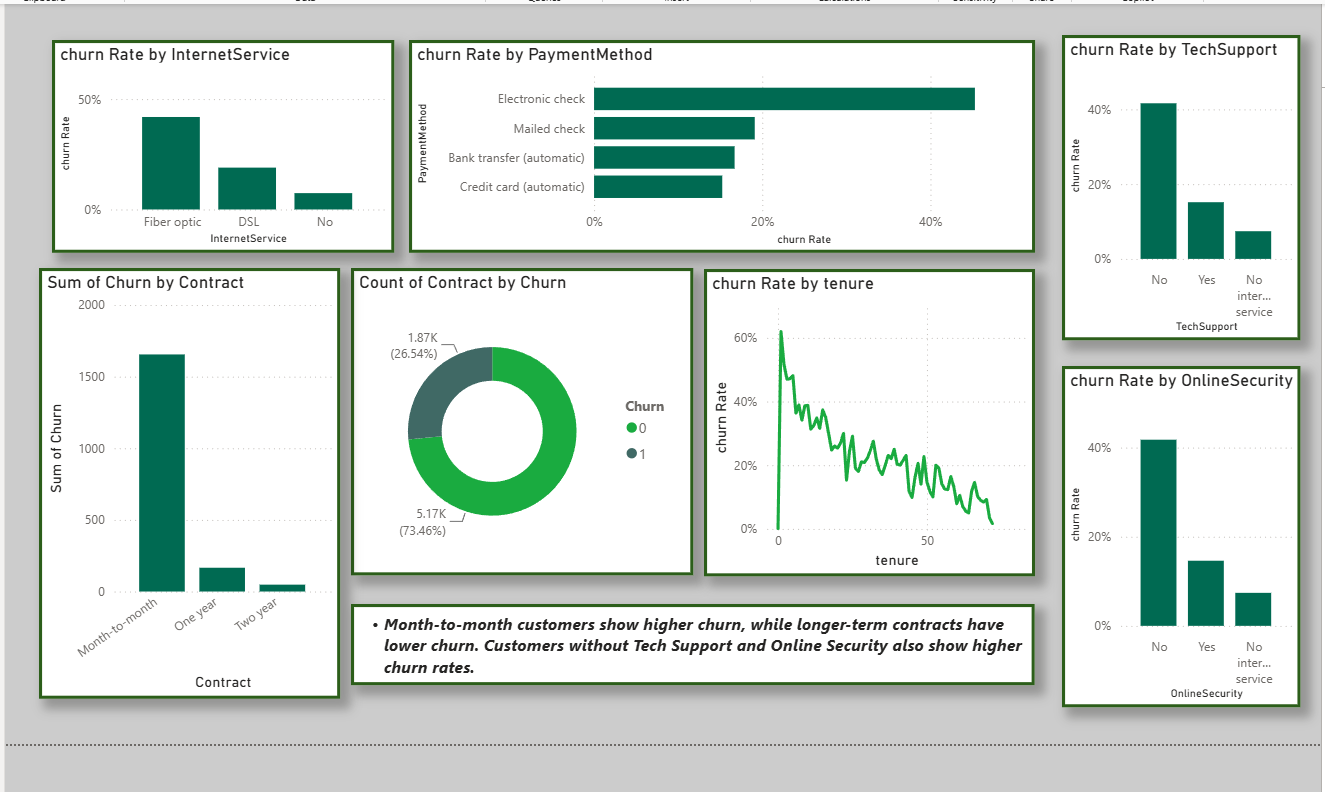

This screenshot's page, from the dashboard's own definition file:
{"tool":"powerbi","page":{"name":"Page 2","canvas":[1280,720],"ordinal":1},"visuals":[{"type":"donutChart","fields":{"Y":["CountNonNull(WA_Fn-UseC_-Telco-Customer-Churn.Contract)"],"Category":["WA_Fn-UseC_-Telco-Customer-Churn.Churn"]},"box":[337,257,332.7,298.8],"z":0},{"type":"columnChart","fields":{"Y":["WA_Fn-UseC_-Telco-Customer-Churn.churn Rate"],"Category":["WA_Fn-UseC_-Telco-Customer-Churn.InternetService"]},"box":[46,35,332.7,206.8],"z":1},{"type":"clusteredBarChart","fields":{"Y":["WA_Fn-UseC_-Telco-Customer-Churn.churn Rate"],"Category":["WA_Fn-UseC_-Telco-Customer-Churn.PaymentMethod"]},"box":[393,35,609,207],"z":2},{"type":"clusteredColumnChart","fields":{"Y":["WA_Fn-UseC_-Telco-Customer-Churn.churn Rate"],"Category":["WA_Fn-UseC_-Telco-Customer-Churn.TechSupport"]},"box":[1028.2,30,231.8,296.8],"z":3},{"type":"clusteredColumnChart","fields":{"Y":["WA_Fn-UseC_-Telco-Customer-Churn.churn Rate"],"Category":["WA_Fn-UseC_-Telco-Customer-Churn.OnlineSecurity"]},"box":[1028.2,351.7,231.8,331.7],"z":4},{"type":"lineChart","fields":{"Y":["WA_Fn-UseC_-Telco-Customer-Churn.churn Rate"],"Category":["WA_Fn-UseC_-Telco-Customer-Churn.tenure"]},"box":[680,258,321.7,298.8],"z":5},{"type":"clusteredColumnChart","fields":{"Category":["WA_Fn-UseC_-Telco-Customer-Churn.Contract"],"Y":["Sum(WA_Fn-UseC_-Telco-Customer-Churn.Churn)"]},"box":[33,257,292.8,418.7],"z":6},{"type":"textbox","box":[337,584,665,79],"z":7}]}

Visuals, with their boxes in screenshot pixels (x1, y1, x2, y2):
donutChart - CountNonNull(WA_Fn-UseC_-Telco-Customer-Churn.Contract) x WA_Fn-UseC_-Telco-Customer-Churn.Churn: (351,266,691,571)
columnChart - WA_Fn-UseC_-Telco-Customer-Churn.churn Rate x WA_Fn-UseC_-Telco-Customer-Churn.InternetService: (54,39,393,250)
clusteredBarChart - WA_Fn-UseC_-Telco-Customer-Churn.churn Rate x WA_Fn-UseC_-Telco-Customer-Churn.PaymentMethod: (408,39,1030,250)
clusteredColumnChart - WA_Fn-UseC_-Telco-Customer-Churn.churn Rate x WA_Fn-UseC_-Telco-Customer-Churn.TechSupport: (1057,34,1293,337)
clusteredColumnChart - WA_Fn-UseC_-Telco-Customer-Churn.churn Rate x WA_Fn-UseC_-Telco-Customer-Churn.OnlineSecurity: (1057,362,1293,701)
lineChart - WA_Fn-UseC_-Telco-Customer-Churn.churn Rate x WA_Fn-UseC_-Telco-Customer-Churn.tenure: (701,267,1029,572)
clusteredColumnChart - WA_Fn-UseC_-Telco-Customer-Churn.Contract x Sum(WA_Fn-UseC_-Telco-Customer-Churn.Churn): (41,266,339,693)
textbox: (351,600,1030,680)
